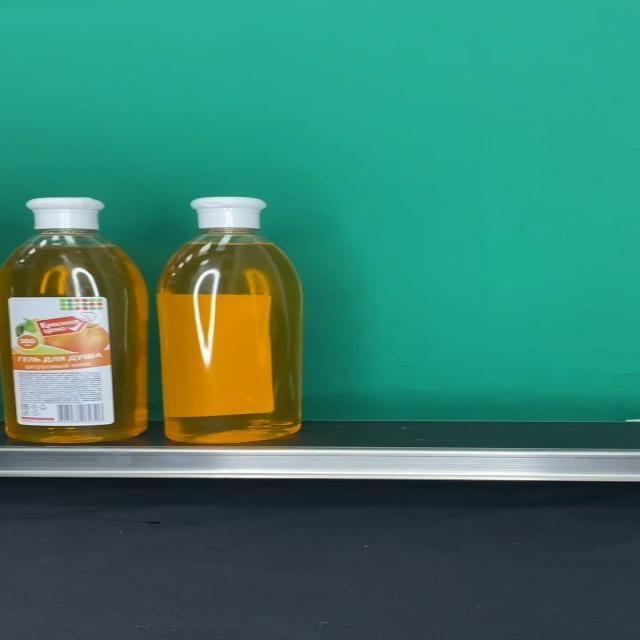Bottle: (0, 198, 149, 443), (157, 197, 302, 444)
Cap: (26, 198, 106, 230), (190, 197, 268, 229)
